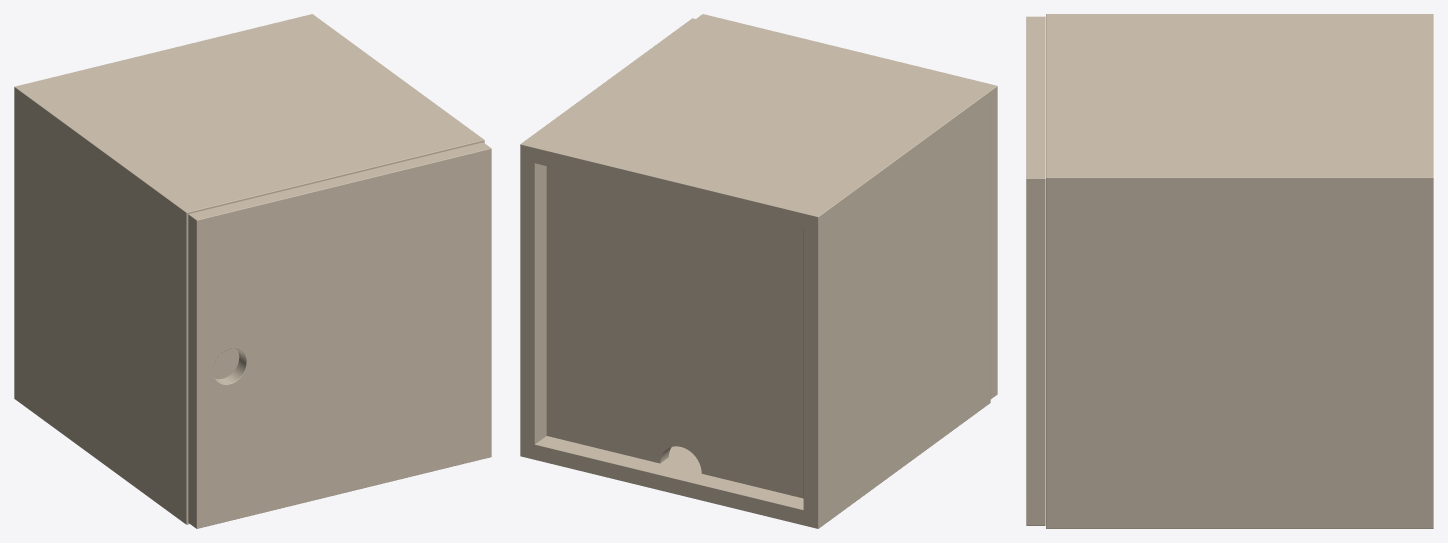
The model's file is MOD-1X1-D-B-IZQ-AP-AR.glb.
3 views of the same model, side by side, from view 1: azimuth 30°, elevation 25°; view 2: azimuth 150°, elevation 25°; view 3: azimuth 270°, elevation 25° (orthographic). The views are drawn at different scales.
Size of the model in its own units: 360 by 360 by 378.
